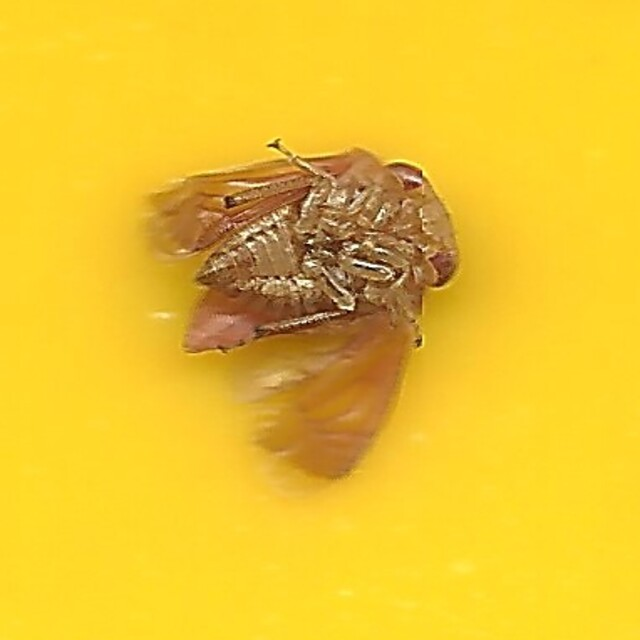Hemiptera: (168, 139, 472, 501)
